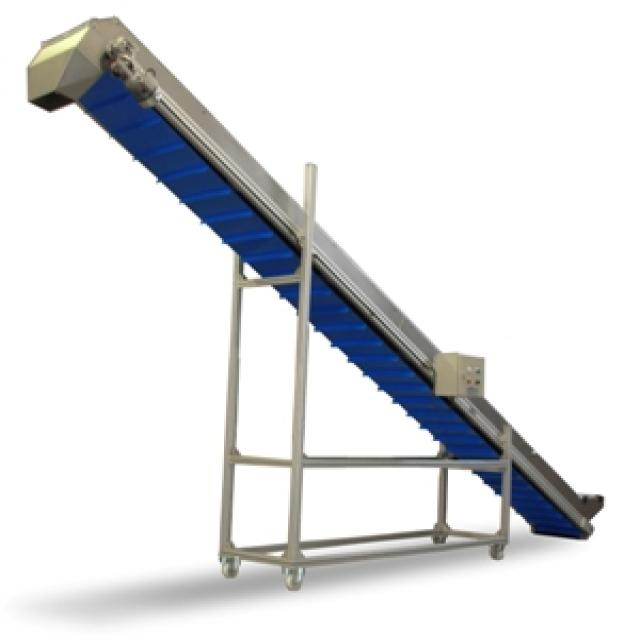conveyor: (6, 5, 608, 592)
